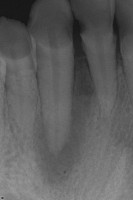Dental Caries: (33, 55, 93, 186)
